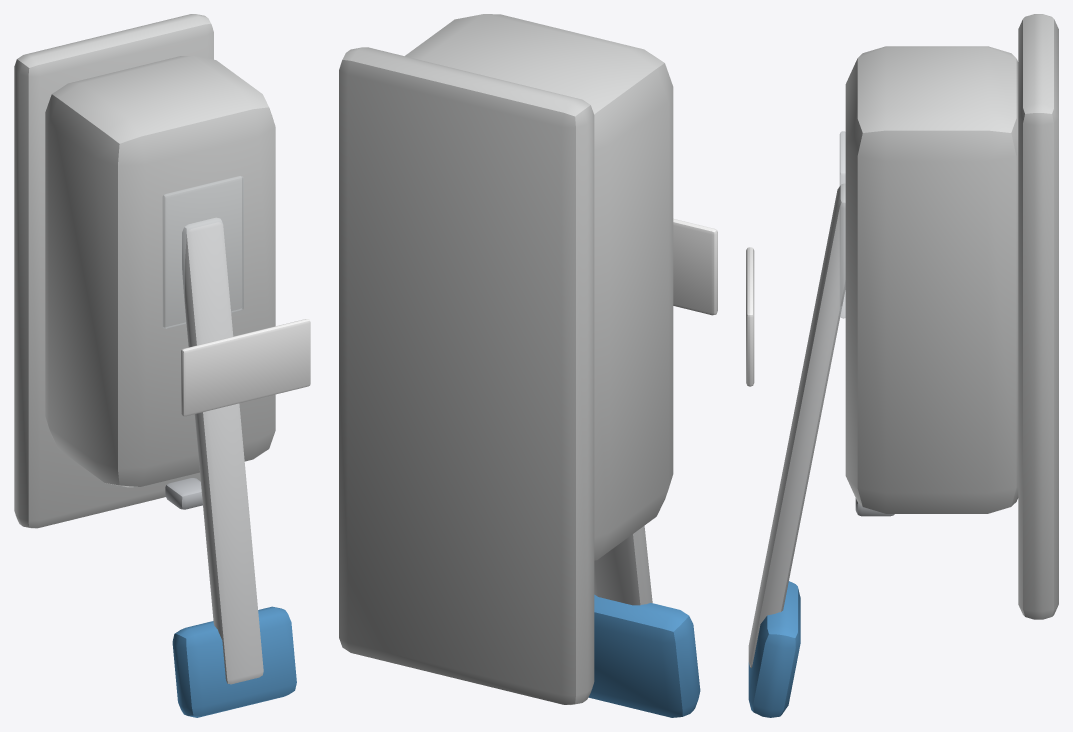
The model's file is HandRubDispenser_Corridor.fbx.
3 views of the same model, side by side, from view 1: azimuth 30°, elevation 25°; view 2: azimuth 150°, elevation 25°; view 3: azimuth 270°, elevation 25° (orthographic). The views are drawn at different scales.
Visible parts, largest first — view 1: HandRubDispenser.001_Mesh; view 2: HandRubDispenser.001_Mesh; view 3: HandRubDispenser.001_Mesh.
Boxes of the visible parts, x1,y1,x2,y2 form: HandRubDispenser.001_Mesh: (14,14,310,717); HandRubDispenser.001_Mesh: (339,14,717,717); HandRubDispenser.001_Mesh: (746,14,1058,717).
Bounding box in the file's own units: 0.12 × 0.345 × 0.154.
